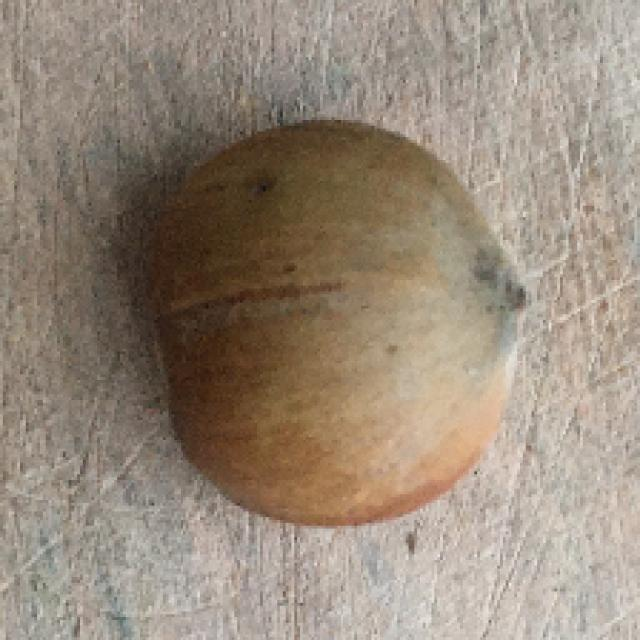qualityHazelnut: (149, 124, 526, 526)
